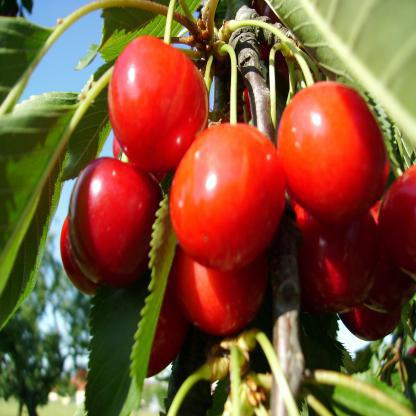tomato: (168, 120, 289, 269), (275, 77, 392, 226), (104, 33, 211, 178), (66, 152, 167, 292)
